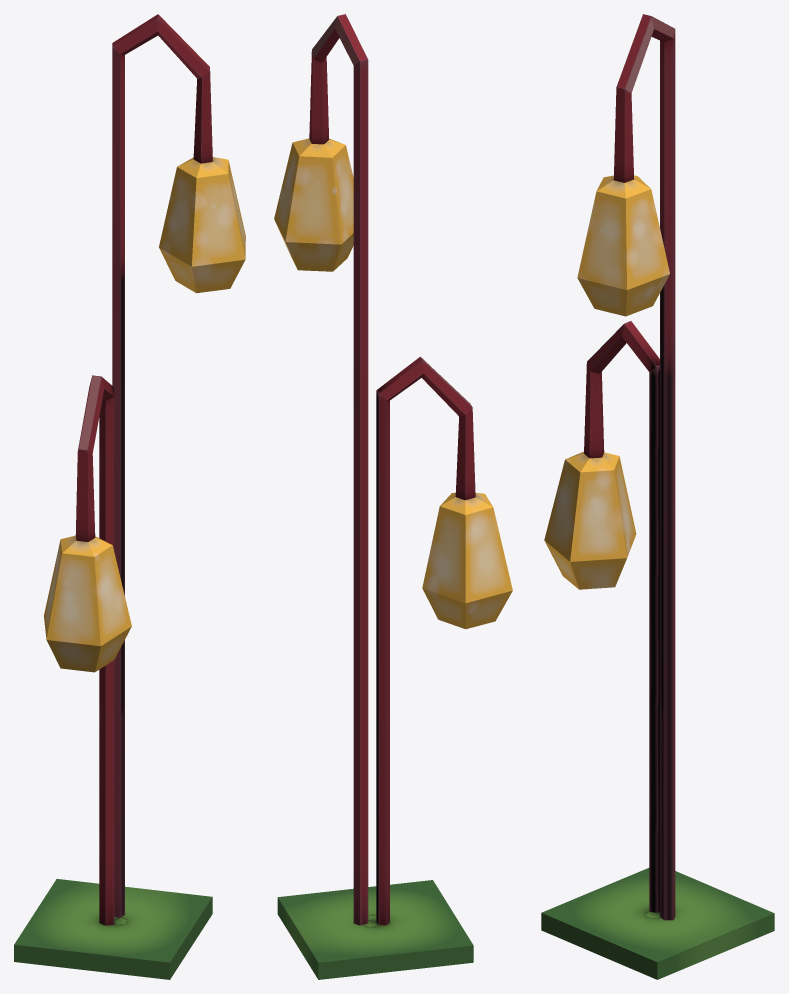
File: Lamp_Stand.glb
3 renders of one model, left to right at view 1: azimuth 30°, elevation 25°; view 2: azimuth 150°, elevation 25°; view 3: azimuth 270°, elevation 25°, orthographic. The views are drawn at different scales.
Visible parts, largest first — view 1: Lamp_Stand; view 2: Lamp_Stand; view 3: Lamp_Stand.
Part boxes in pixels (x1,y1,x2,y2): Lamp_Stand: (14,14,245,979); Lamp_Stand: (274,14,512,979); Lamp_Stand: (541,14,774,979).
Size of the model in its own units: 0.4702 by 1.87 by 0.4232.
1 material, 1 textured.
